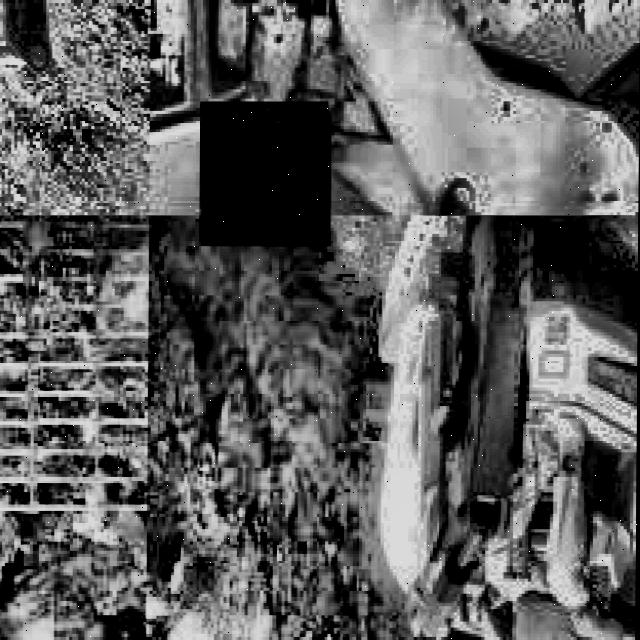buldozerpayloadergrader: (150, 0, 640, 212)
excavator: (372, 216, 638, 640)
